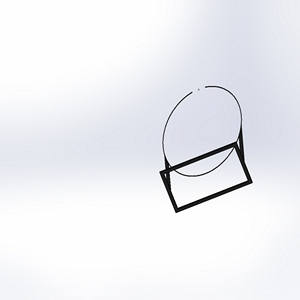circle: (158, 82, 252, 213)
